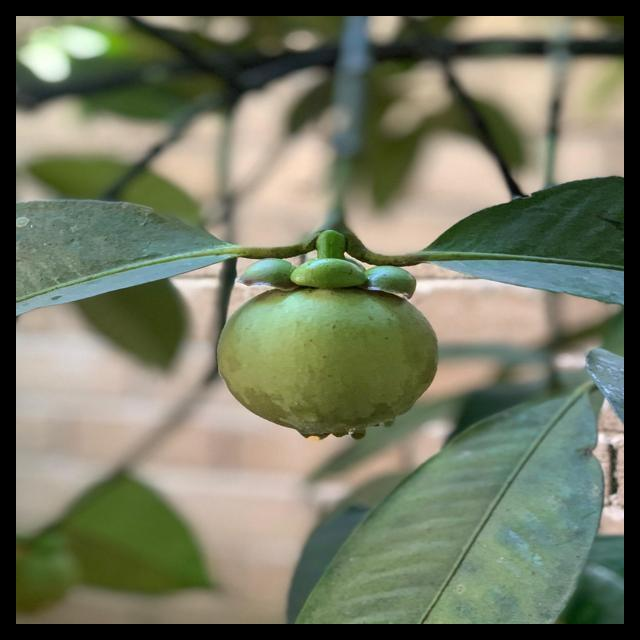mangosteen: (207, 226, 483, 469)
